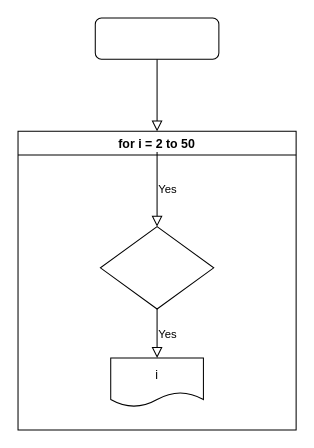
Image size: 314x448. Some labels were removed from this diagram. The centre of each missing label's shape, as x and y in pixels:
i % 2 == 0: point 156,267
start: point 156,38
